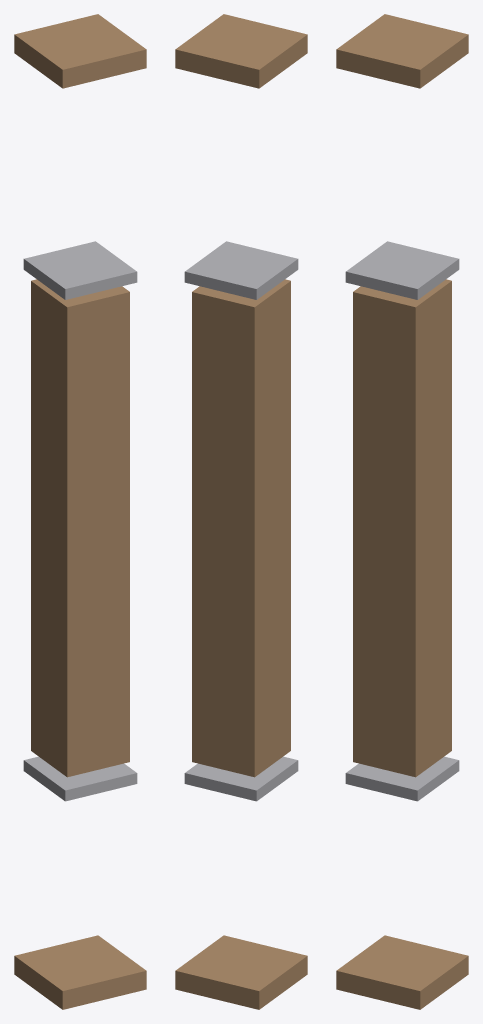
The model's file is wood_beam.glb.
3 renders of one model, left to right at view 1: azimuth 30°, elevation 25°; view 2: azimuth 150°, elevation 25°; view 3: azimuth 330°, elevation 25°, orthographic.
Parts seen in each view (by area): view 1: Post, Cap, Boot, Strap@2.3, Strap@0.7; view 2: Post, Cap, Boot, Strap@2.3, Strap@0.7; view 3: Post, Cap, Boot, Strap@2.3, Strap@0.7.
Part boxes in pixels (x1,y1,x2,y2): Post: [31, 279, 129, 777]; Cap: [14, 14, 146, 88]; Boot: [14, 935, 146, 1009]; Strap@2.3: [23, 241, 137, 299]; Strap@0.7: [23, 756, 137, 801]; Post: [192, 279, 290, 777]; Cap: [175, 14, 307, 88]; Boot: [175, 935, 307, 1009]; Strap@2.3: [184, 241, 298, 299]; Strap@0.7: [184, 756, 298, 801]; Post: [353, 279, 451, 777]; Cap: [336, 14, 468, 88]; Boot: [336, 935, 468, 1009]; Strap@2.3: [345, 241, 459, 299]; Strap@0.7: [345, 756, 459, 801].
Size of the model in its own units: 0.28 by 3 by 0.28.
